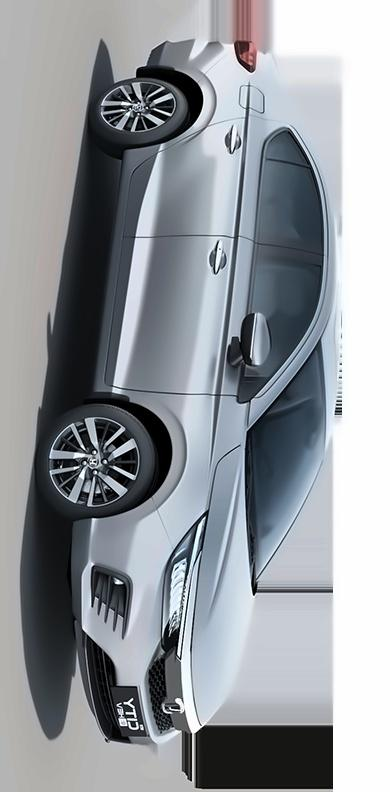Car hood: (189, 442, 258, 731)
Fender - -F-R-: (92, 390, 254, 549)
Fender - -R-L-: (122, 59, 269, 167)
Front bumper: (62, 494, 164, 755)
Headlight - -R-: (154, 506, 212, 660)
Passenger-s door - -R-R-: (120, 114, 330, 236)
Rear bumper: (130, 30, 219, 87)
Rear light - -R-: (230, 36, 269, 74)
Side bumper - -R-: (89, 140, 138, 411)
Side mirror - -R-: (104, 234, 330, 398), (212, 303, 279, 383)
